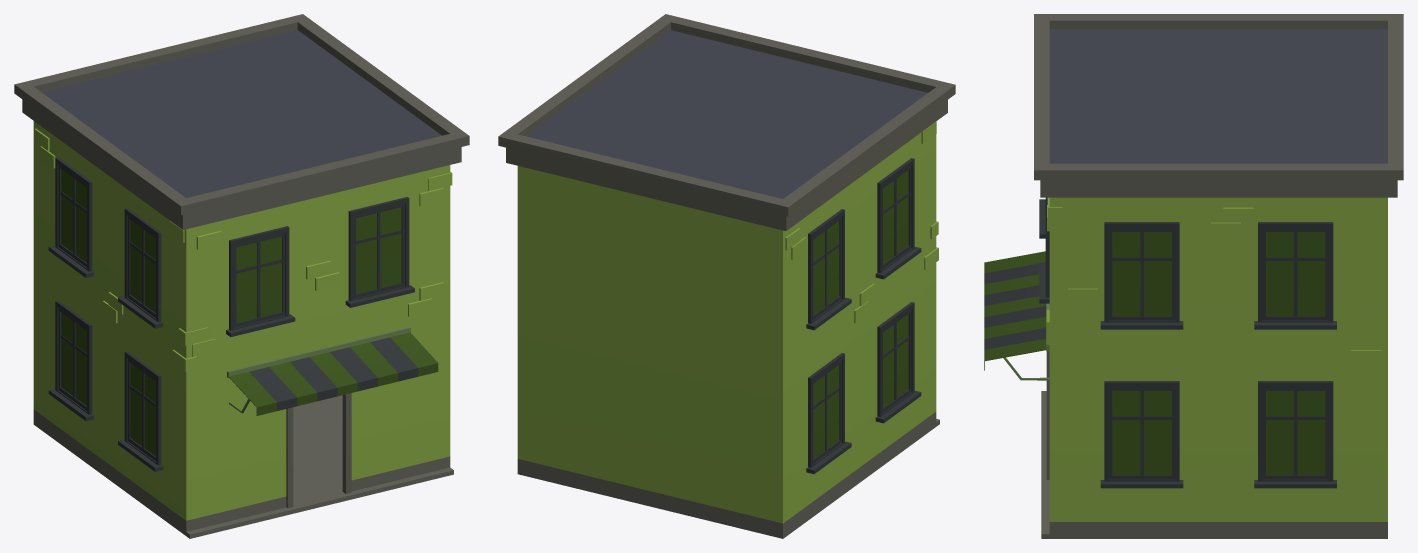
Rendered from House_11.fbx.
The picture shows the model from 3 angles, left to right: view 1: azimuth 30°, elevation 25°; view 2: azimuth 150°, elevation 25°; view 3: azimuth 270°, elevation 25°; orthographic projection. The views are drawn at different scales.
Parts seen in each view (by area): view 1: House_11; view 2: House_11; view 3: House_11.
Part boxes in pixels (x1,y1,x2,y2): House_11: (14,14,469,538); House_11: (498,14,955,538); House_11: (984,14,1403,538).
Size of the model in its own units: 4.92 by 5.51 by 5.58.
